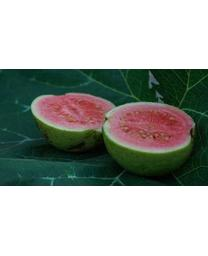watermelon: (30, 89, 197, 177)
